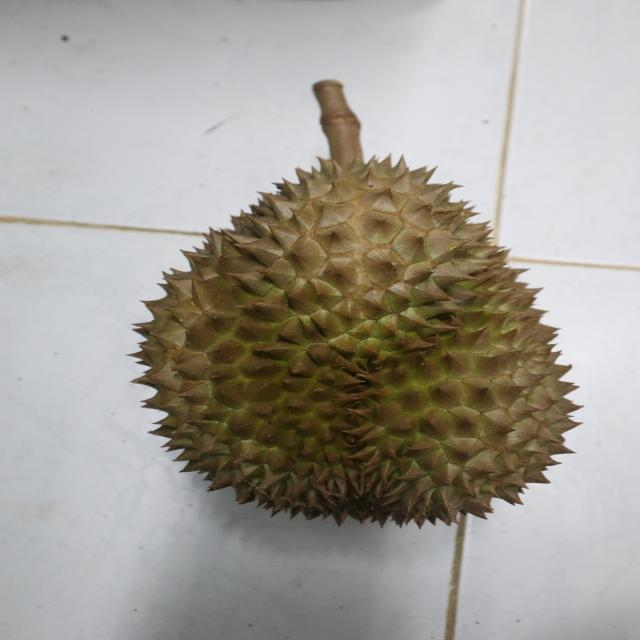mature: (134, 155, 584, 521)
